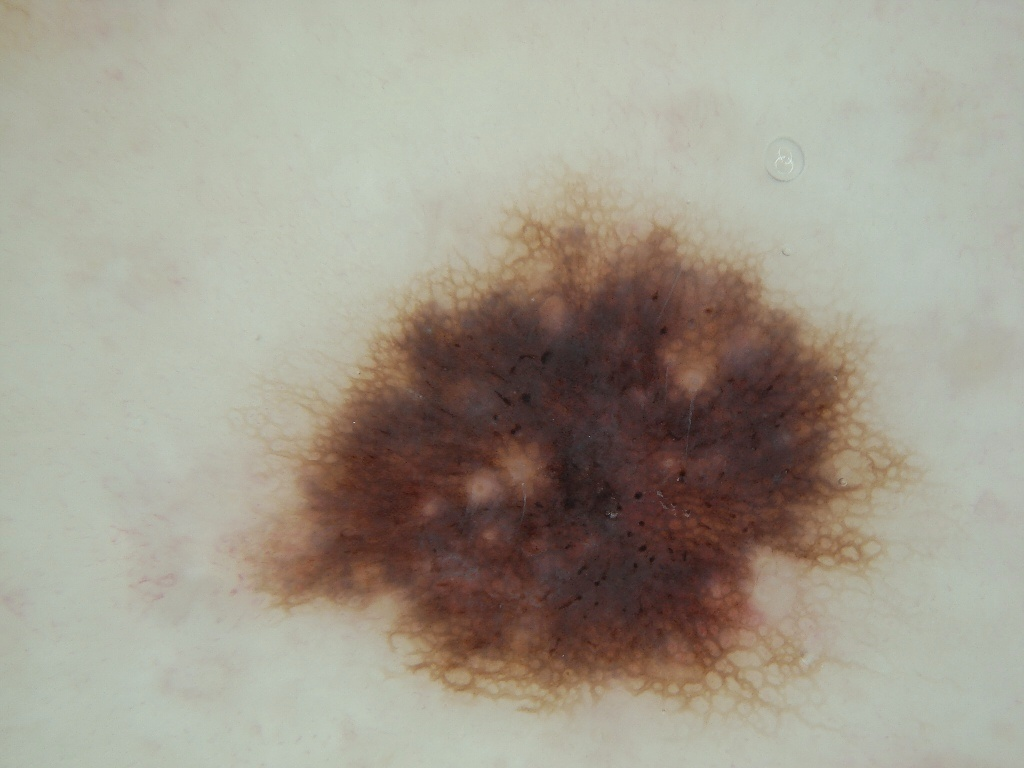Detected Lesion: (235, 189, 943, 721)
